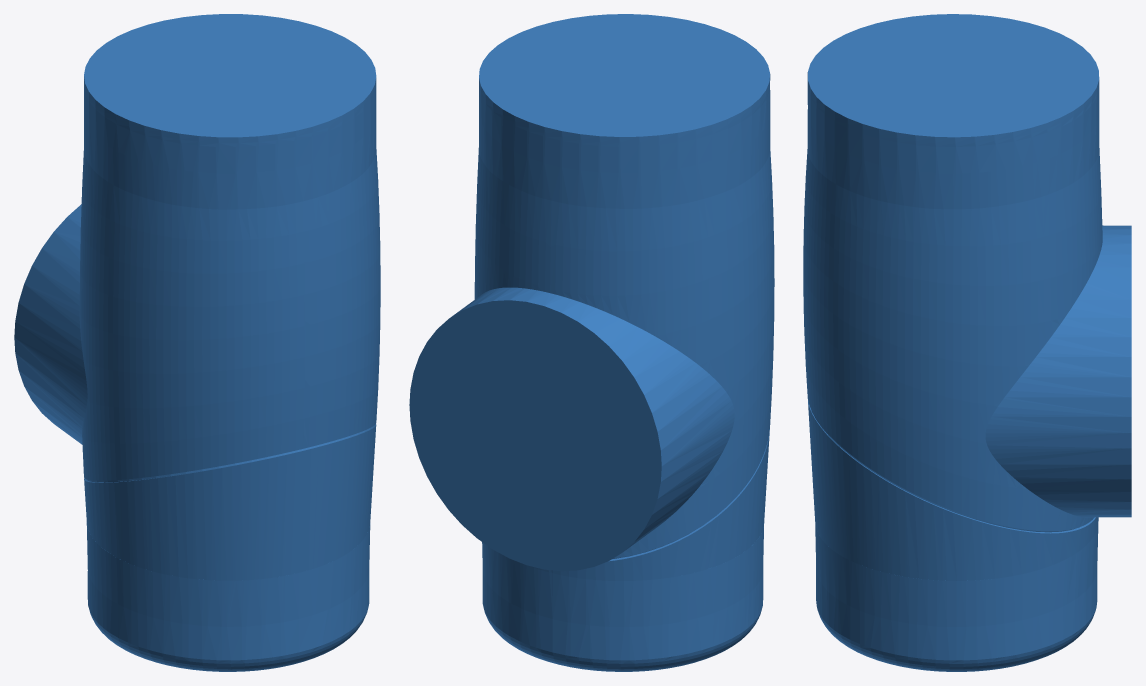
The model's file is JakaZu3Link5.dae.
3 renders of one model, left to right at view 1: azimuth 30°, elevation 25°; view 2: azimuth 150°, elevation 25°; view 3: azimuth 270°, elevation 25°, orthographic.
Parts seen in each view (by area): view 1: JakaZu3Link5; view 2: JakaZu3Link5; view 3: JakaZu3Link5.
Boxes of the visible parts, <box> form: JakaZu3Link5: <box>14,14,380,671</box>; JakaZu3Link5: <box>409,14,774,671</box>; JakaZu3Link5: <box>803,14,1131,671</box>.
Bounding box in the file's own units: 0.07 × 0.0765 × 0.14.
